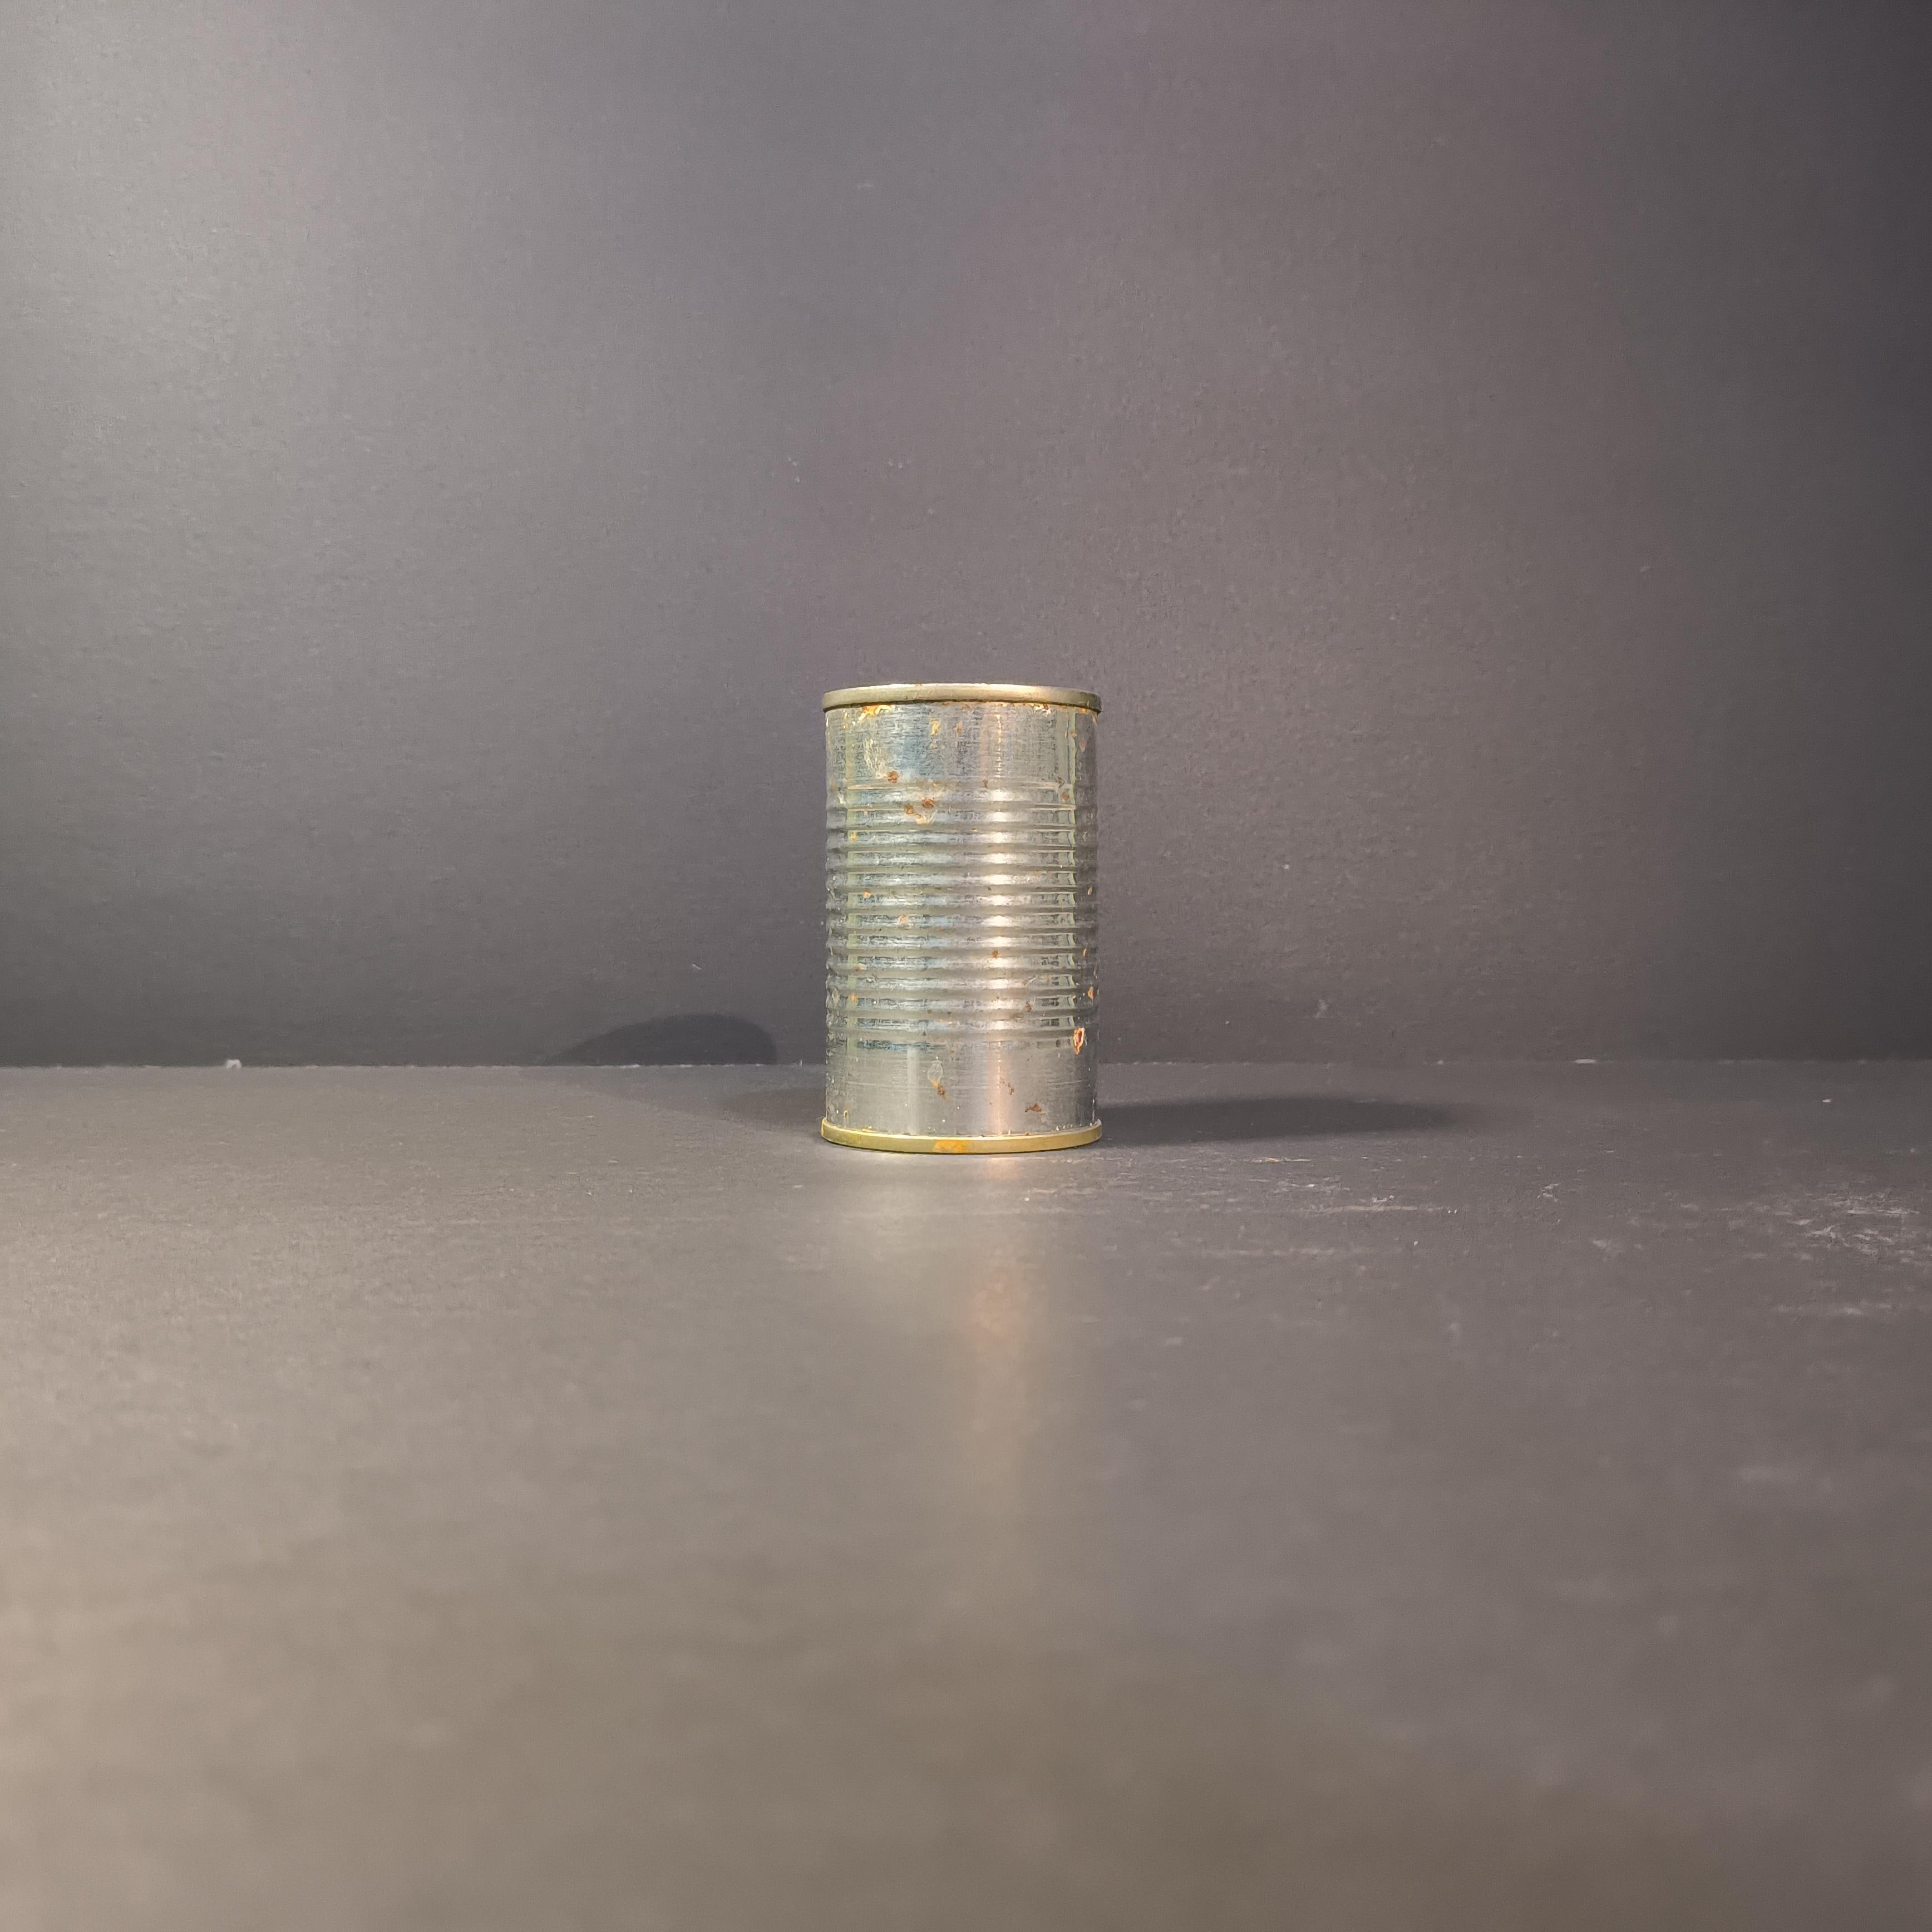Rusted: (803, 651, 1118, 1168)
